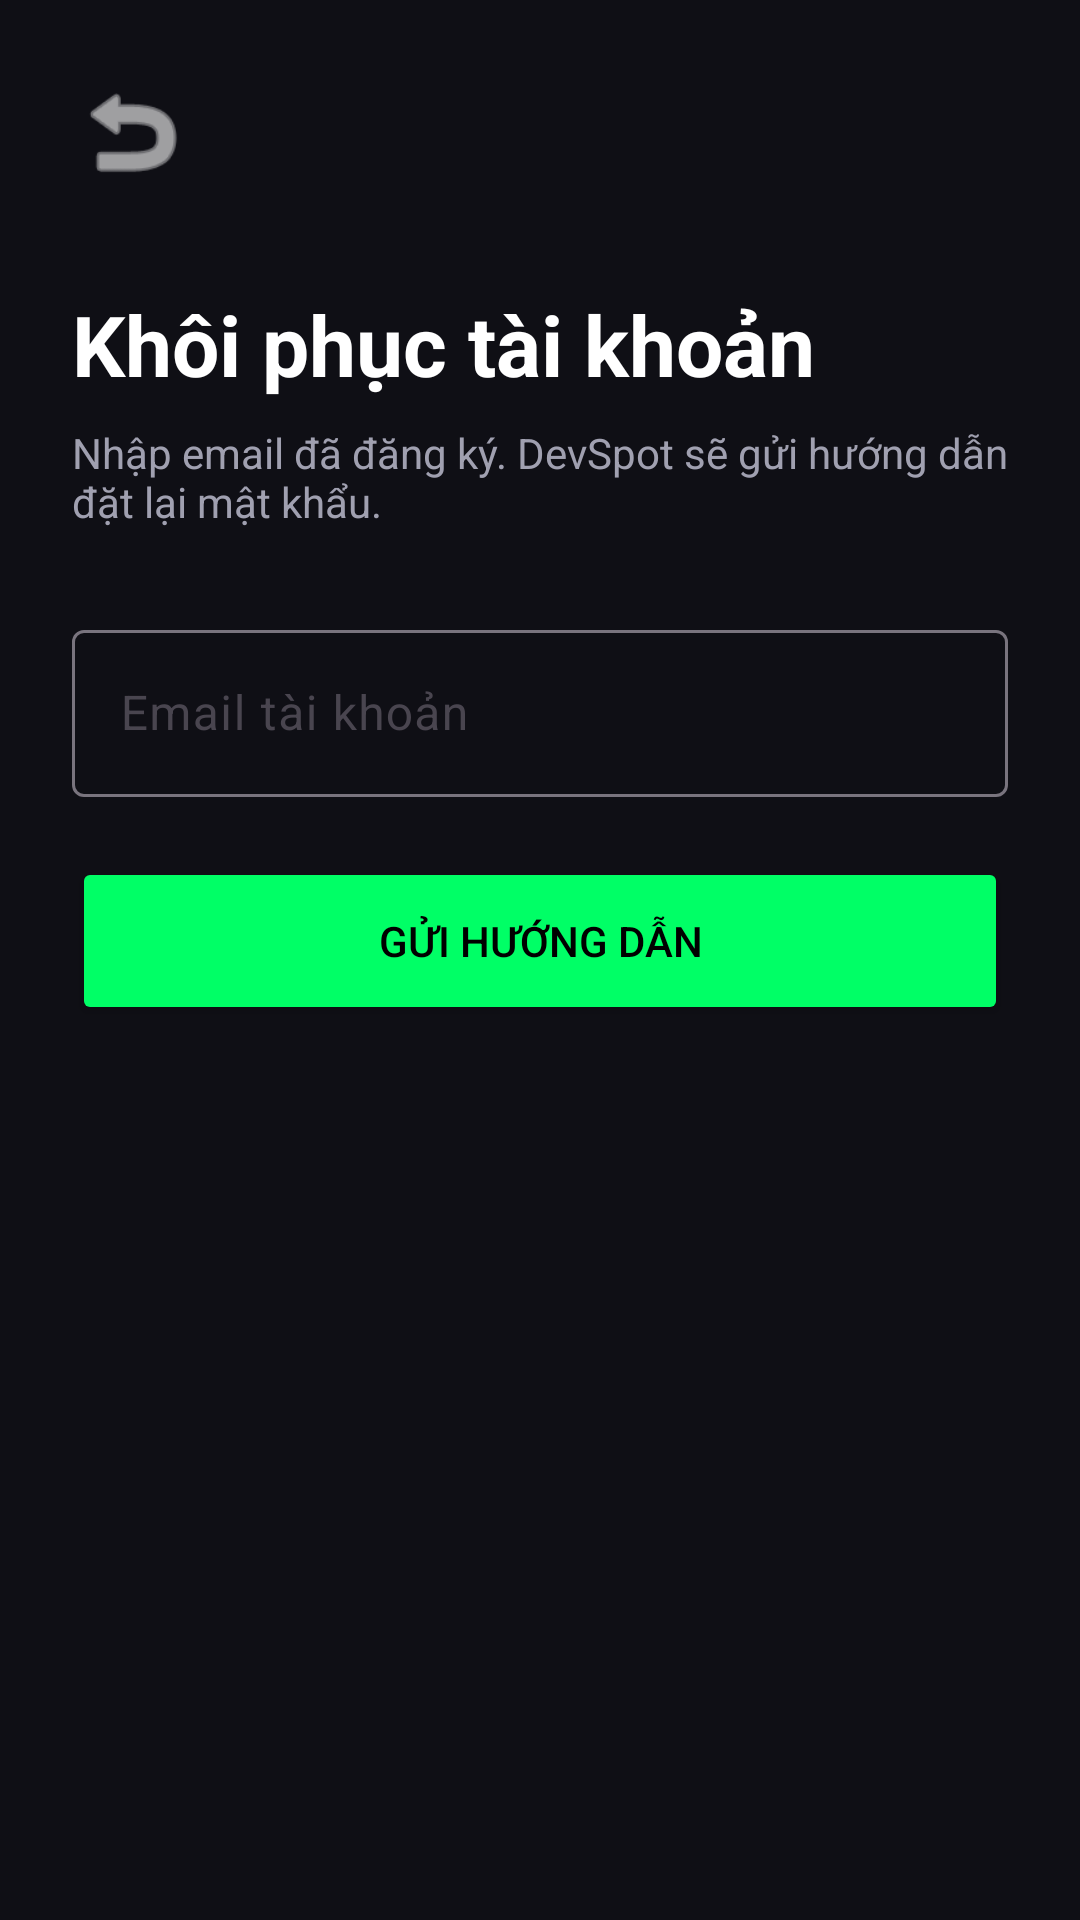

Locate icon controls on the screen. Image size 1080w x 1920h, boxes as bbox(x1, y1, x2, y2).
Quay lại: bbox(90, 94, 177, 172)
